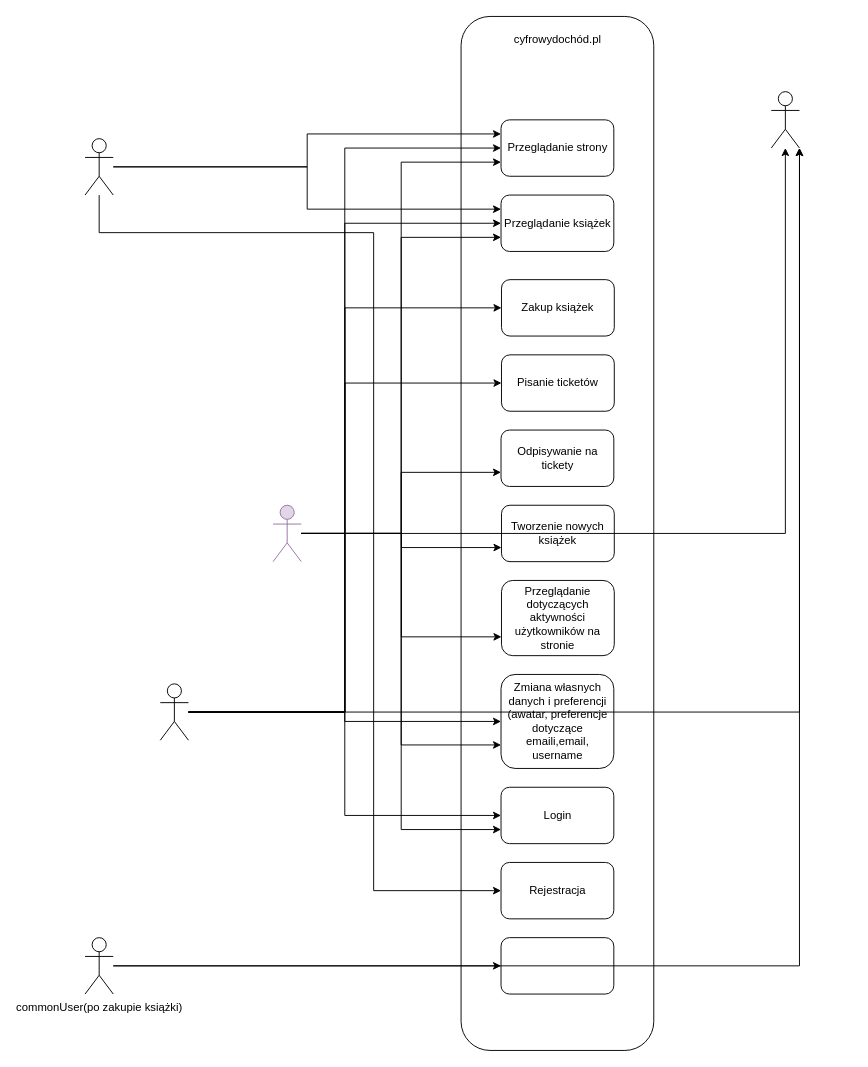
Some shapes in this 868 by 1067 pixel diagram are drawn without their labels. Each missing label, with the centre of its shape:
<<serwis>> Autentykacja, Autoryzacja.: (x=784, y=119)
admin: (x=286, y=533)
commonUser: (x=173, y=711)
Użytkownik niezarejestrowany: (x=98, y=166)
Wystawienie opinii książce: (x=557, y=965)
